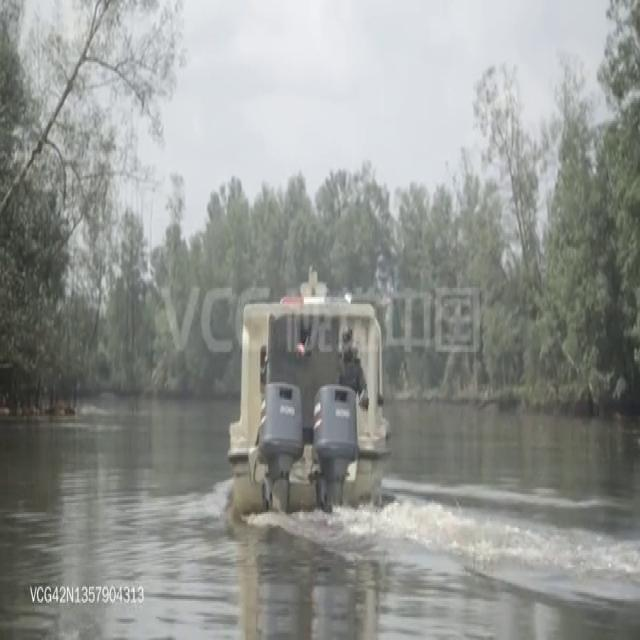houseboat: (224, 273, 396, 515)
